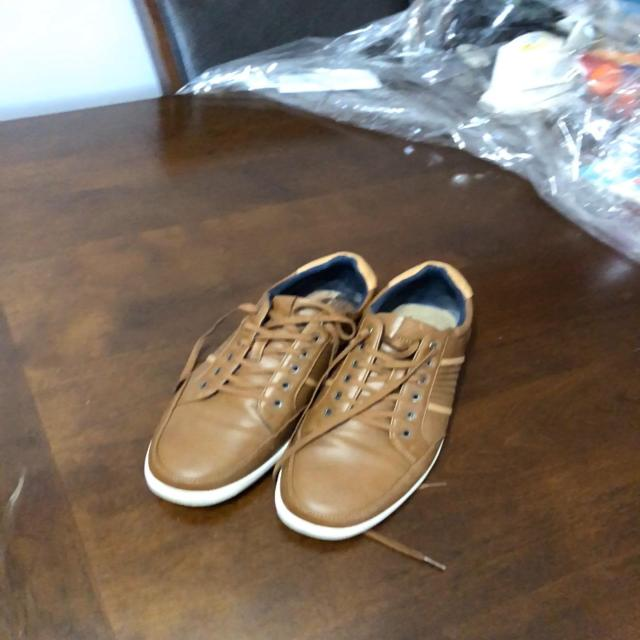shoe: (143, 256, 376, 512), (280, 266, 474, 549)
